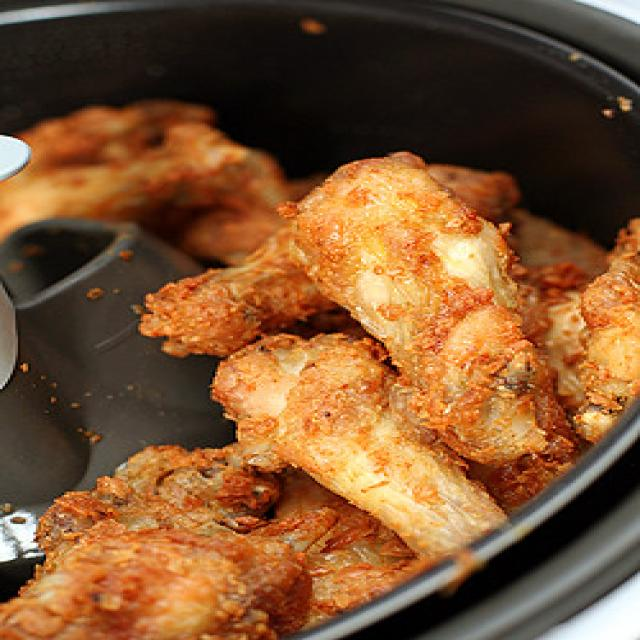Frango: (5, 151, 637, 638), (3, 105, 314, 264)
